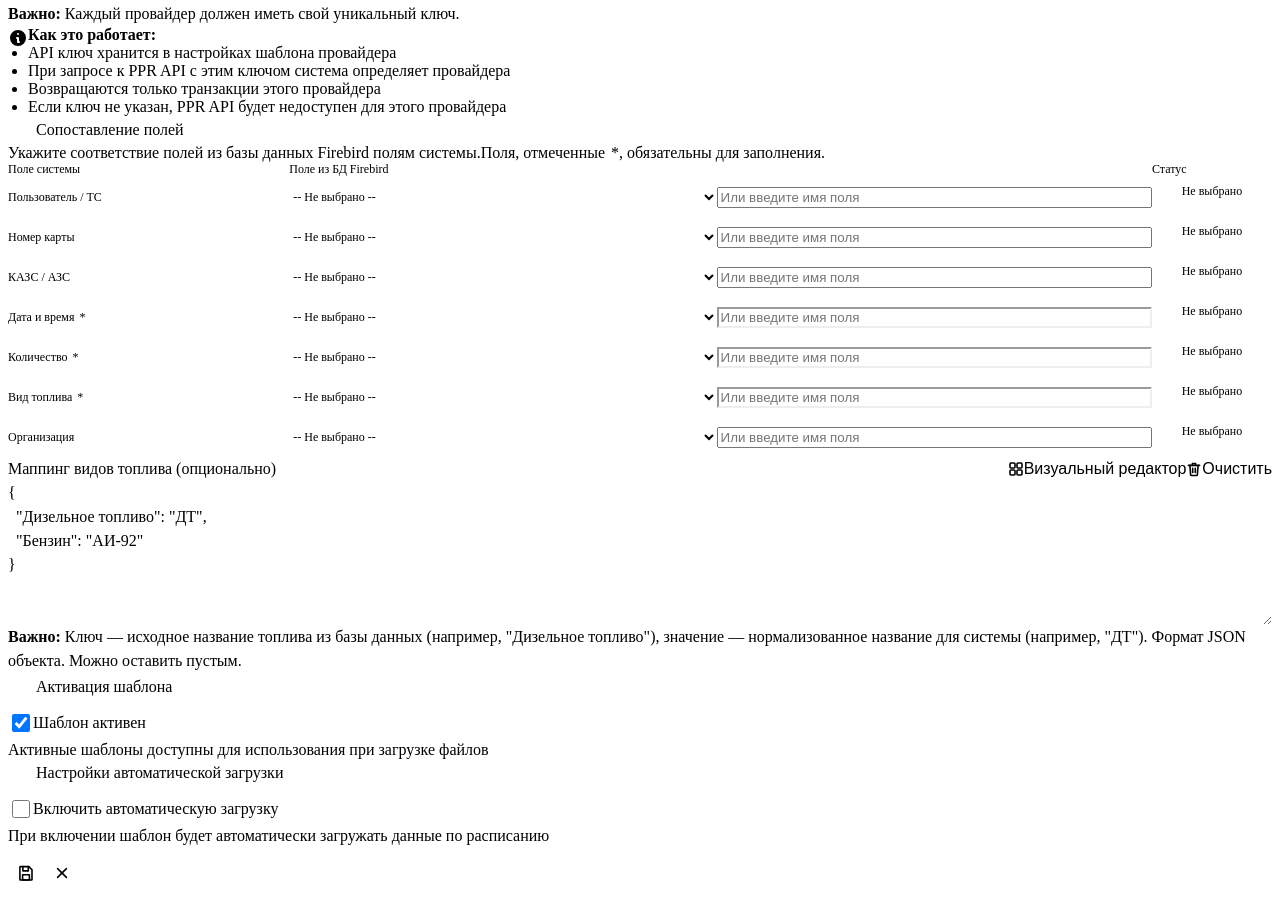
Test: TemplateEditor: маппинг видов топлива › маппинг из шаблона показывается в визуальном редакторе
(page scrolled)
What coordinates should you click on to do the following:
click the button "Визуальный редактор"
I would click on:
 (1097, 469)
Its box is [1008,460,1186,478].
(page scrolled)
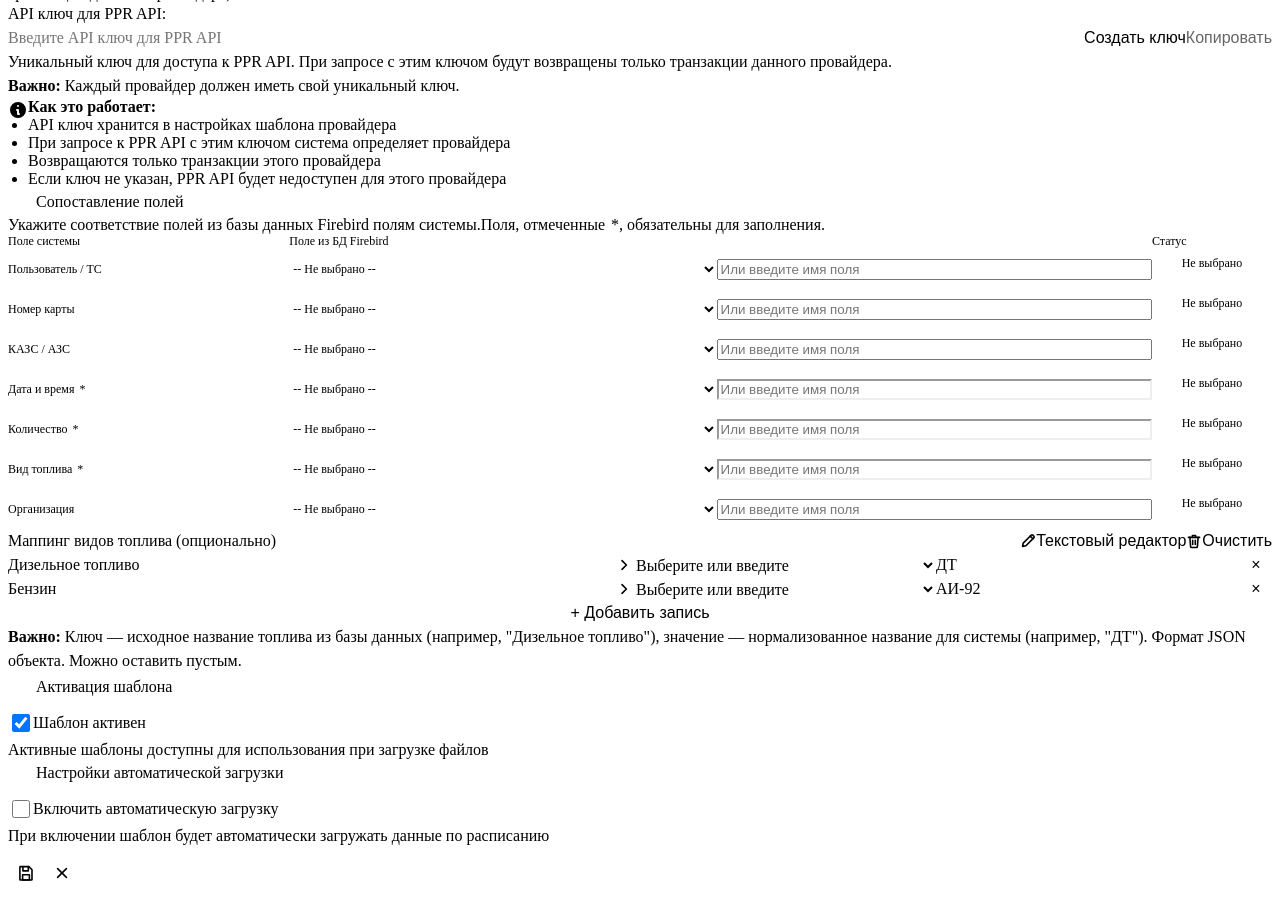
Now the number of fields with placeholder "Исходное название (из БД)" is 2, box [8,553,616,577]; [8,577,616,601]
